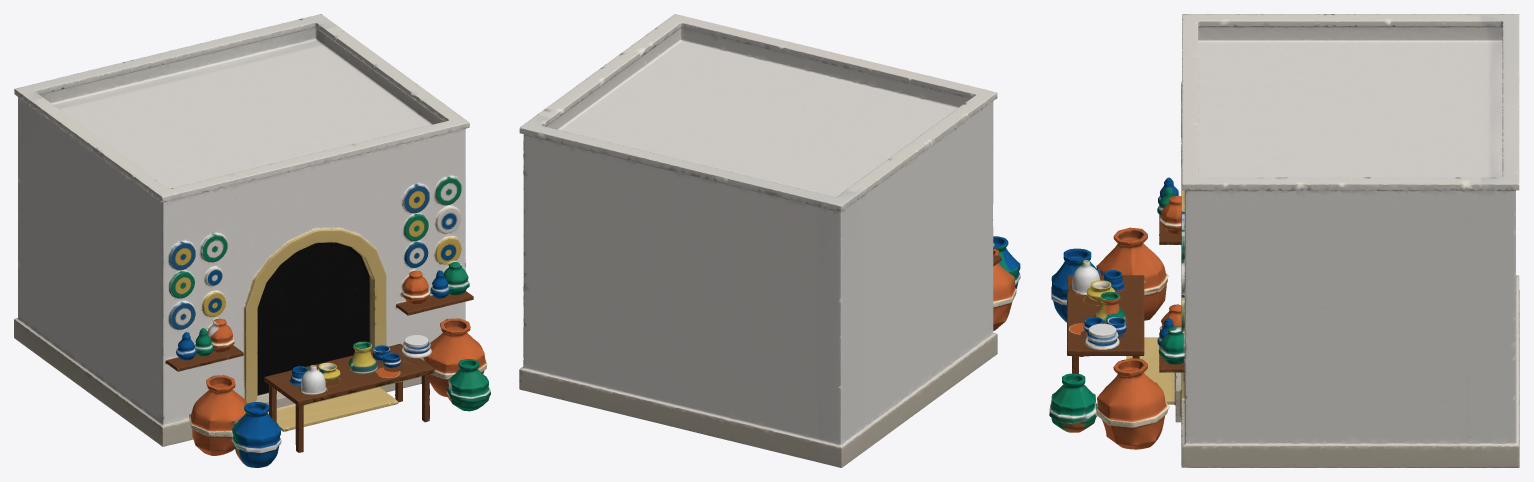
The model's file is Meshy_AI_Ceramic_Courtyard_Stall_20261027_texture.fbx.
3 views of the same model, side by side, from view 1: azimuth 30°, elevation 25°; view 2: azimuth 150°, elevation 25°; view 3: azimuth 270°, elevation 25° (orthographic). The views are drawn at different scales.
Parts seen in each view (by area): view 1: Mesh_0; view 2: Mesh_0; view 3: Mesh_0.
Part boxes in pixels (x1,y1,x2,y2): Mesh_0: [14, 14, 490, 467]; Mesh_0: [519, 14, 1020, 467]; Mesh_0: [1049, 14, 1519, 467].
Bounding box in the file's own units: 163 × 130 × 190.
Materials: 1 (1 with a texture image).
